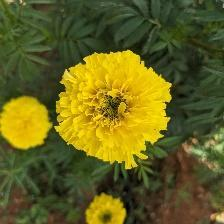marigold: (54, 49, 175, 171)
